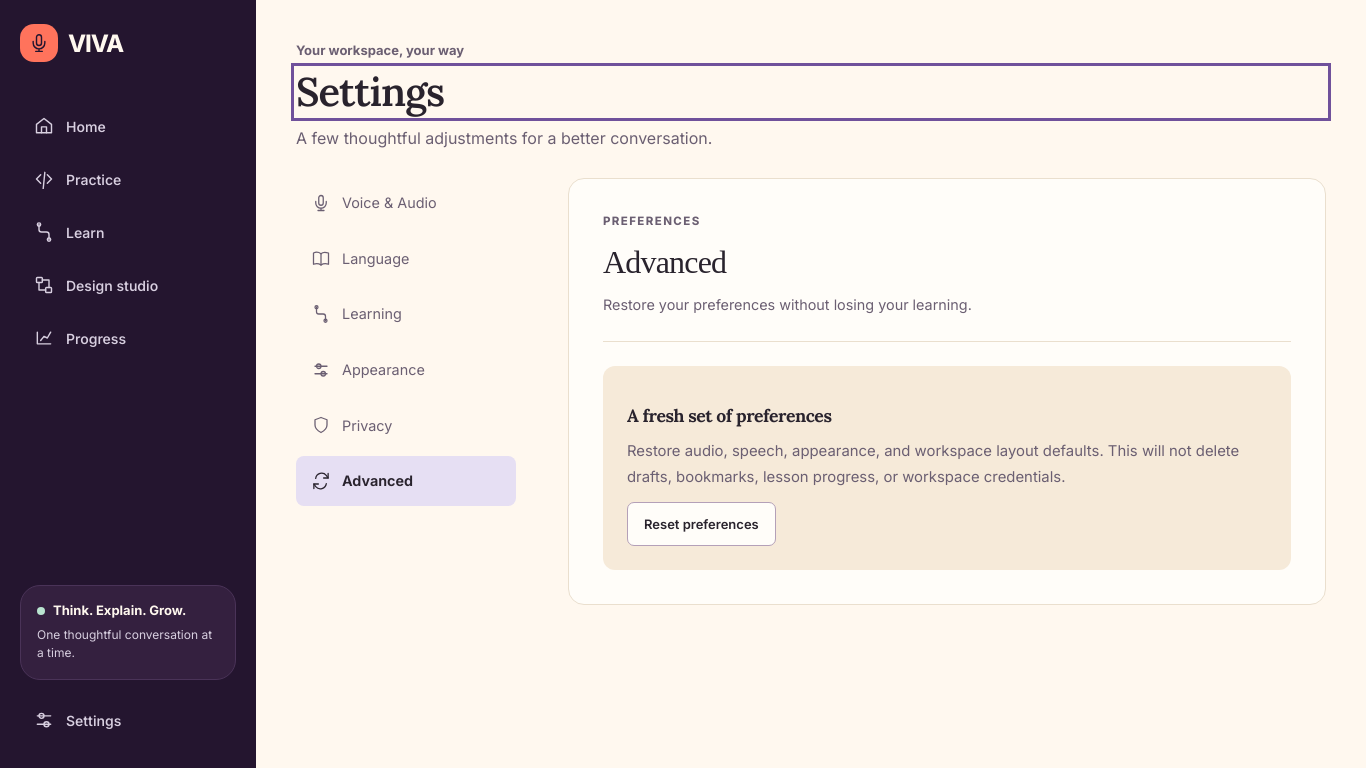
functional product settings › resets preferences only after confirmation and preserves workspace credentials
Click the button "Reset preferences" at (701, 524), box [627, 502, 776, 546]
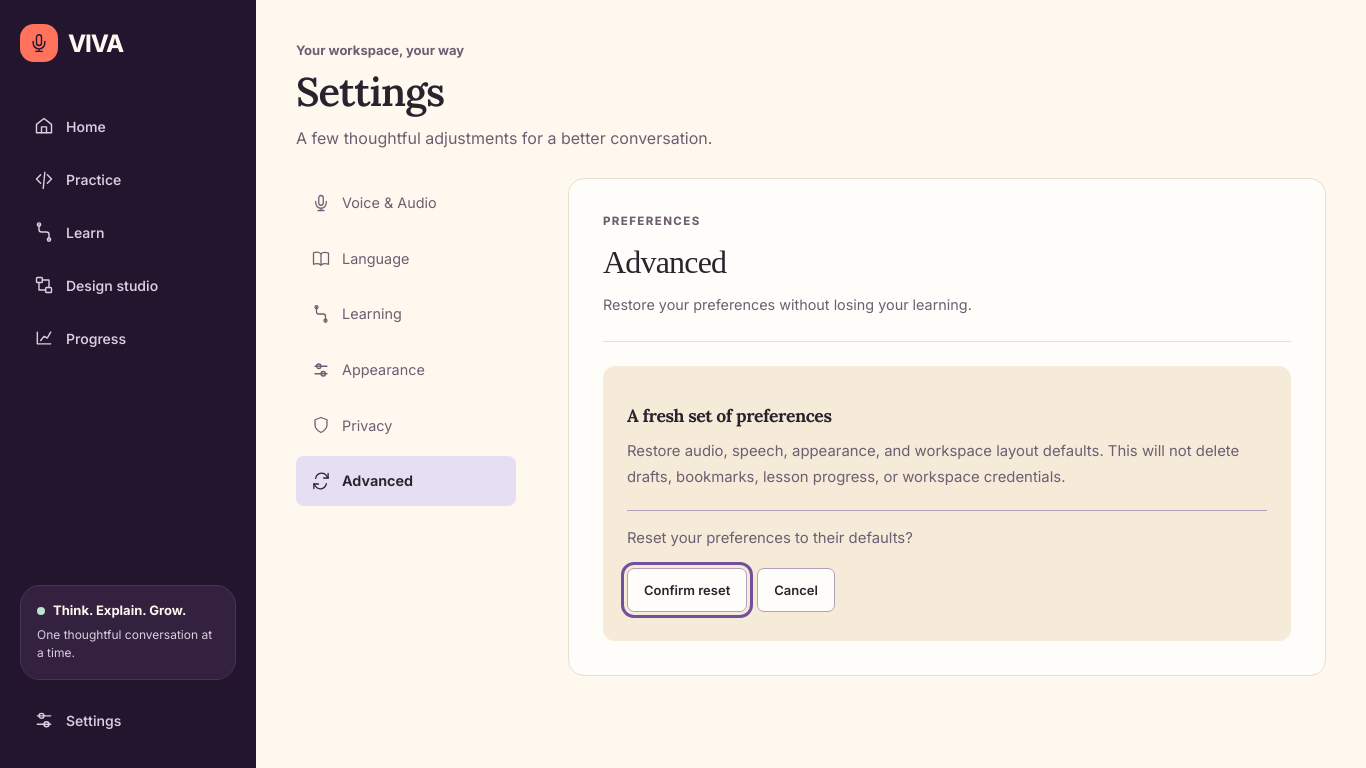
Expected: the button "Confirm reset" is shown
Click the button "Confirm reset" at (687, 590), box [627, 568, 747, 612]
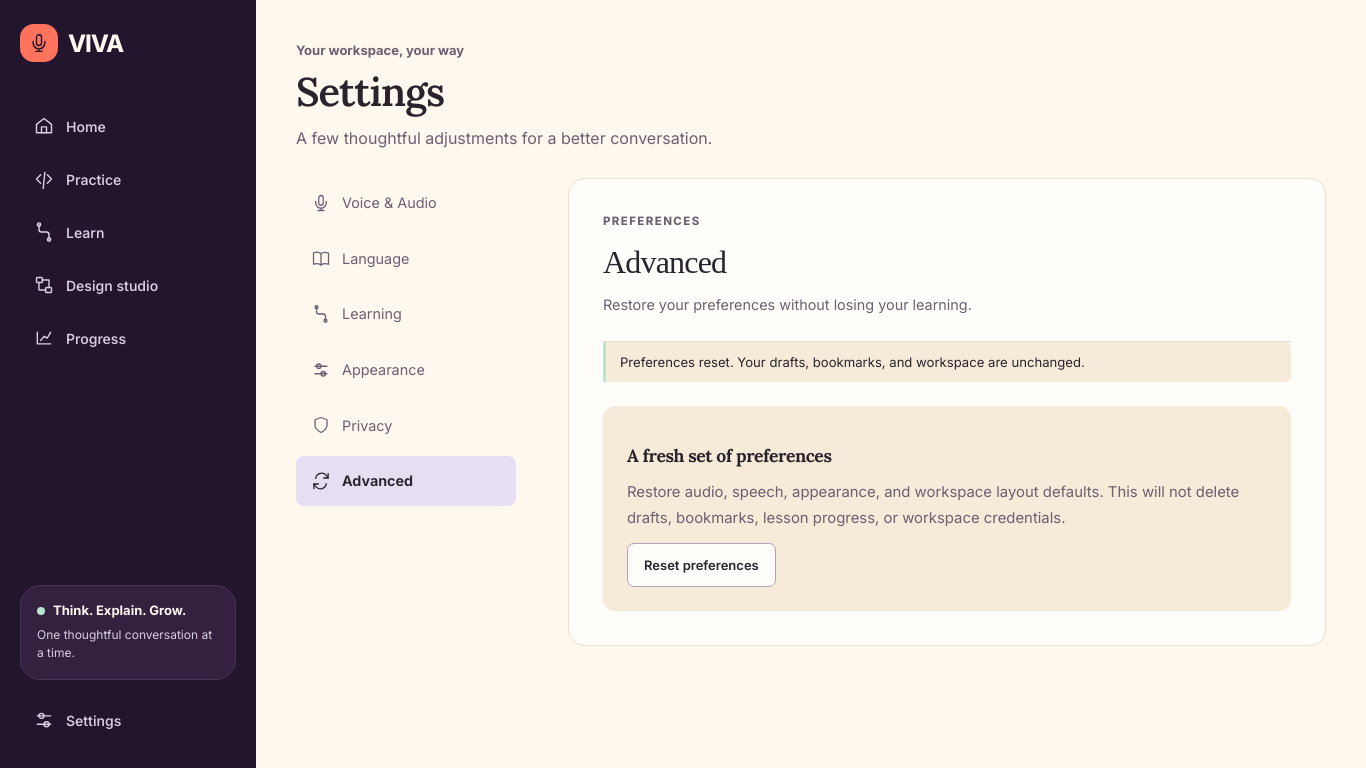
Expected: the message shows "Preferences reset", [620, 354, 1085, 370]
